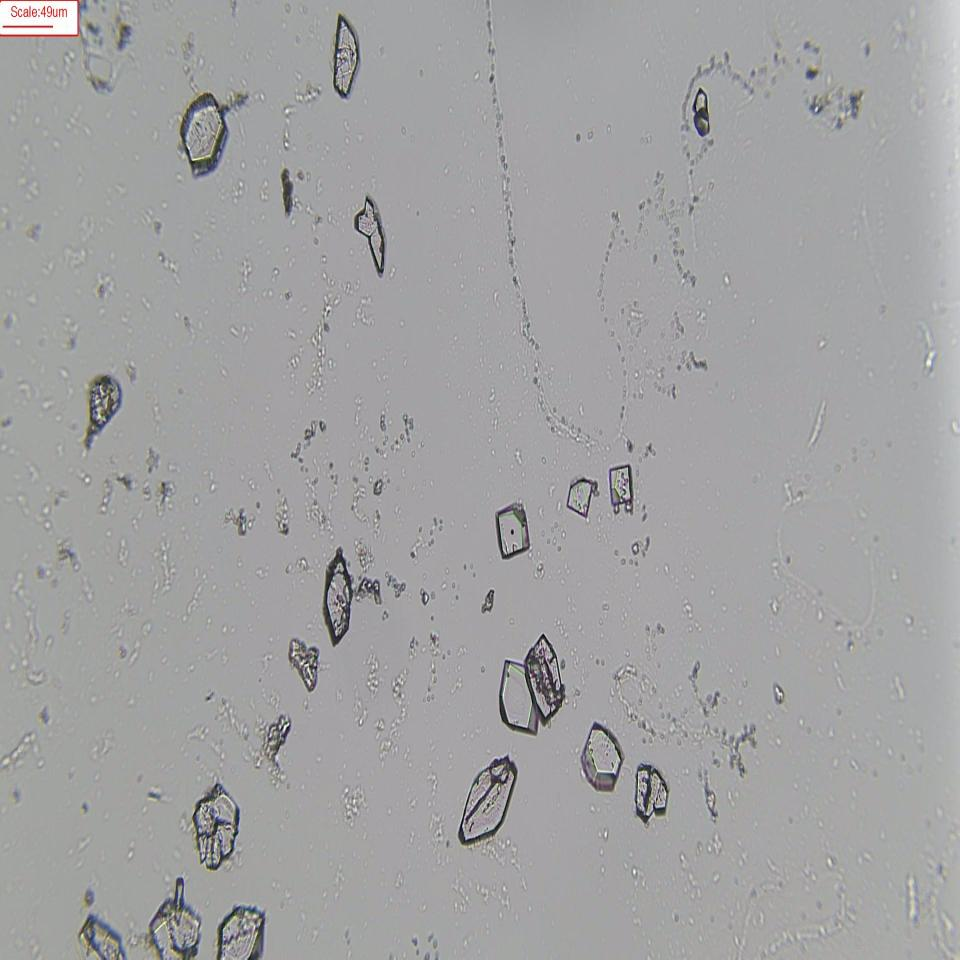crystal: (458, 746, 520, 844), (191, 782, 242, 871), (148, 885, 208, 960), (178, 93, 228, 175), (328, 13, 370, 104), (524, 635, 565, 718), (319, 546, 355, 640), (630, 748, 672, 826), (496, 660, 540, 734), (582, 720, 621, 788), (494, 498, 530, 555), (607, 457, 634, 509), (565, 474, 593, 516)
